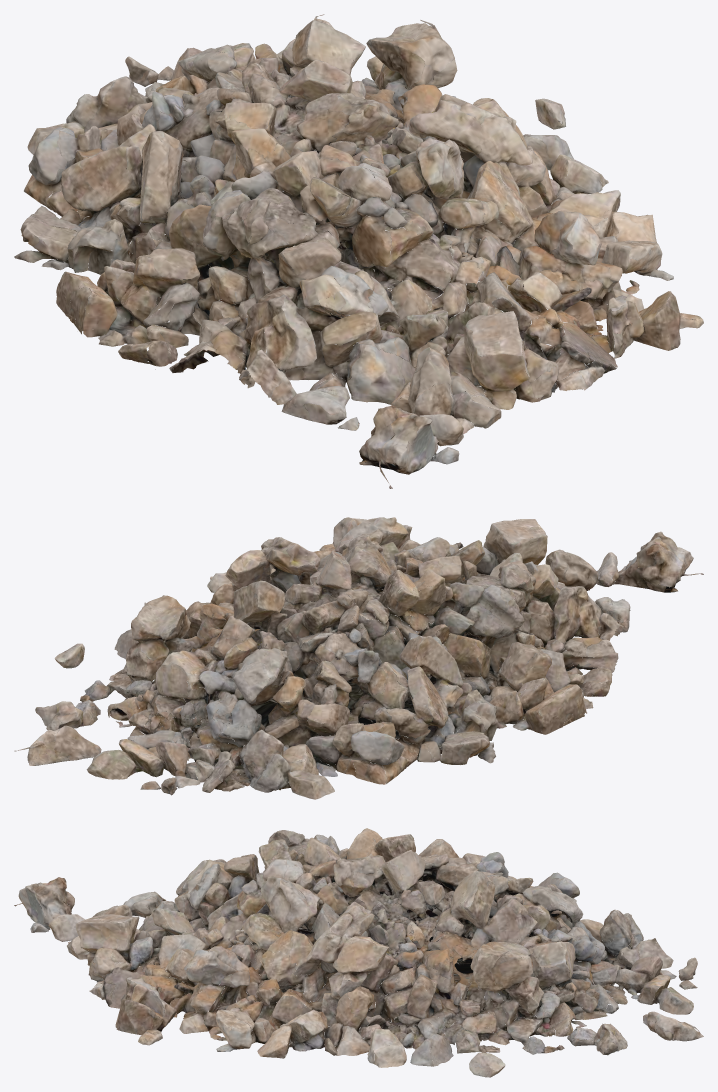
Rendered from debris-concrete-junk.glb.
3 views of the same model, one above another, from view 1: azimuth 30°, elevation 25°; view 2: azimuth 150°, elevation 25°; view 3: azimuth 270°, elevation 25° (orthographic). The views are drawn at different scales.
Visible parts, largest first — view 1: Model_material2_0; view 2: Model_material2_0; view 3: Model_material2_0.
Part boxes in pixels (x1,y1,x2,y2): Model_material2_0: (14, 14, 703, 488); Model_material2_0: (14, 517, 703, 799); Model_material2_0: (14, 828, 703, 1077).
Bounding box in the file's own units: 40.72 × 11.75 × 58.23.
Materials: 3 (3 with a texture image).
